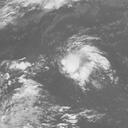cyclone: (65, 46, 109, 85)
